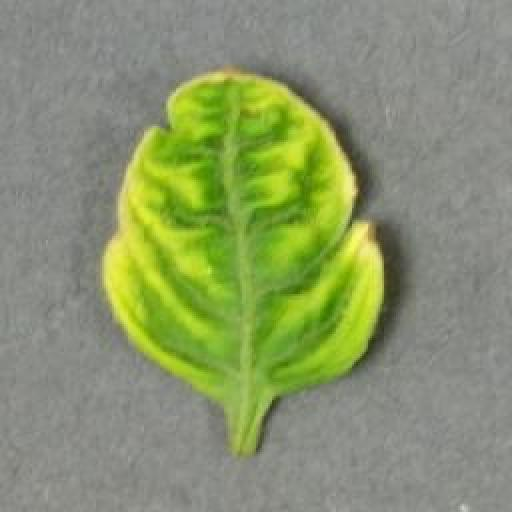disease_tomato: (104, 69, 387, 391)
